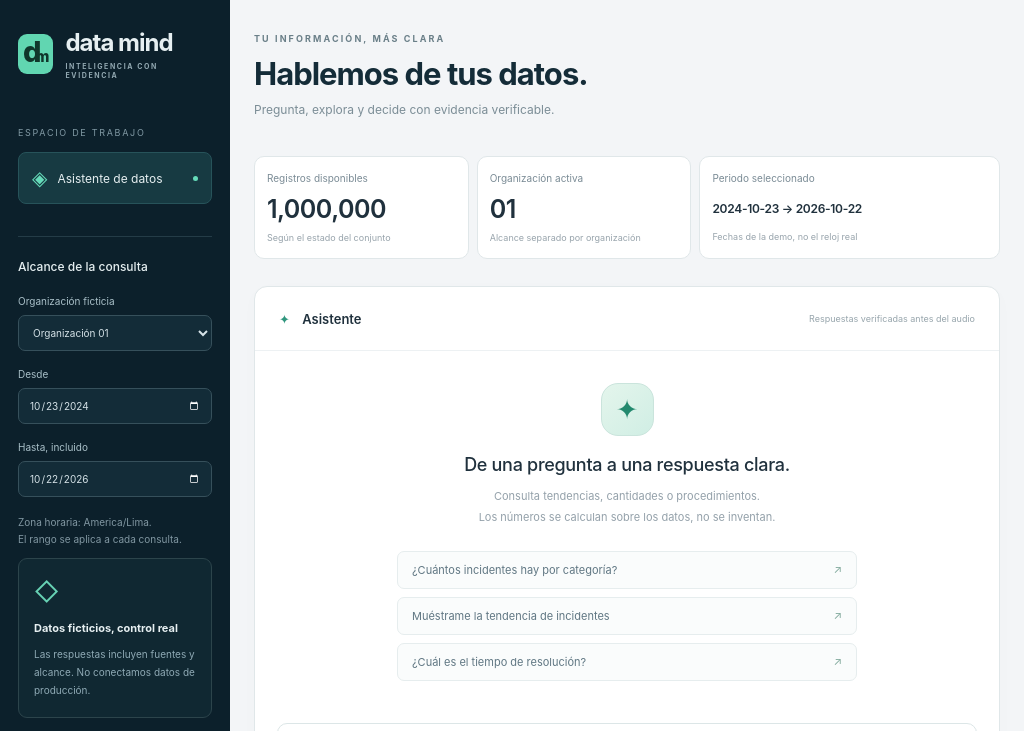
Test: Spanish conversational client › renders verified evidence and sends explicitly requested feedback
This screenshot has width=1024, height=731.
Expected: the text "1,000,000" is shown, [267,194,386,224]
Step 1. Click the button "¿Cuántos incidentes hay por categoría? ↗" → x=515, y=570, box [397,551,857,589]
(page scrolled)
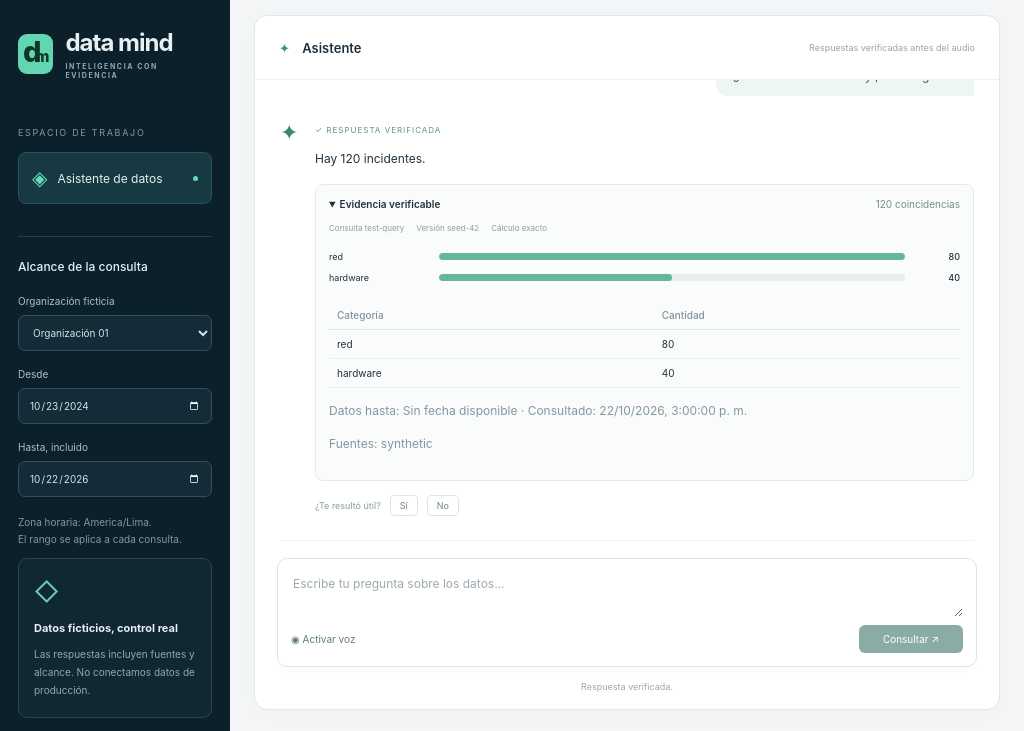
Now the text "Hay 120 incidentes." is shown, box [315,151,426,166]
Now the text "120 coincidencias" is shown, box [876,198,960,210]
Step 2. Click the button "Sí" → x=404, y=505, box [390,495,418,516]
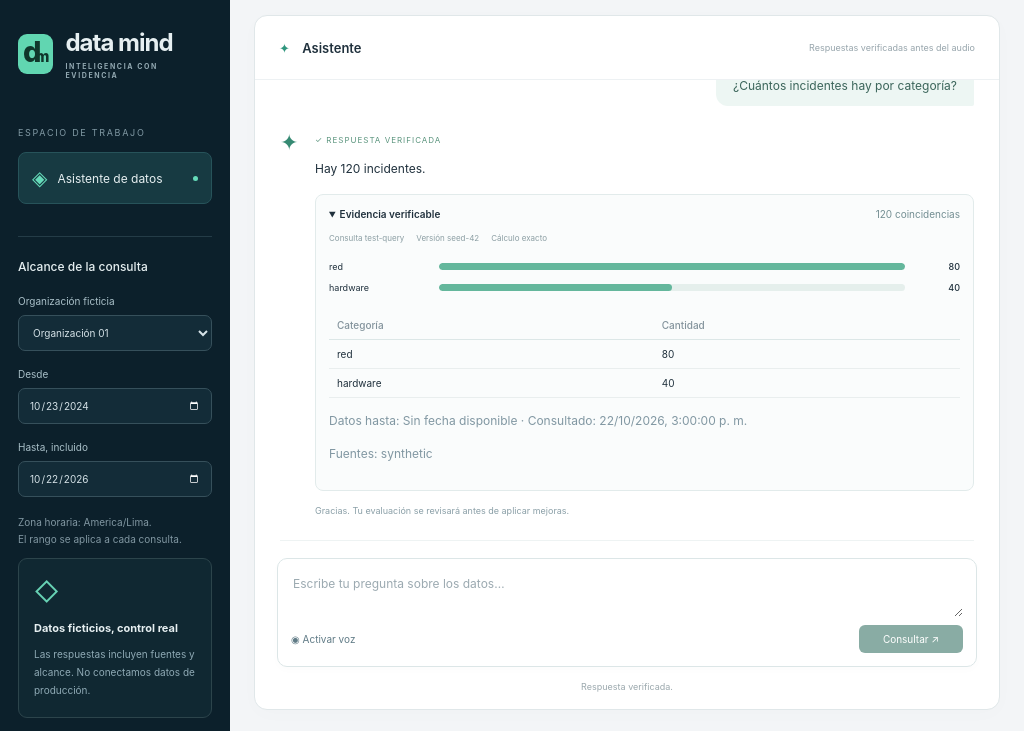
Now the text "Gracias. Tu evaluación se revisará antes de aplicar mejoras." is shown, box [315,505,569,516]
